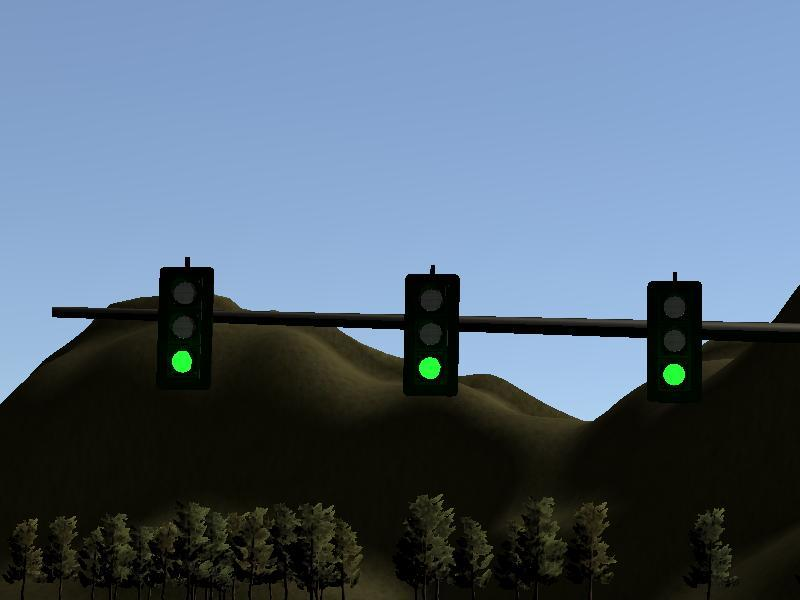Green: (646, 280, 703, 404), (402, 274, 459, 397), (157, 267, 212, 392)
